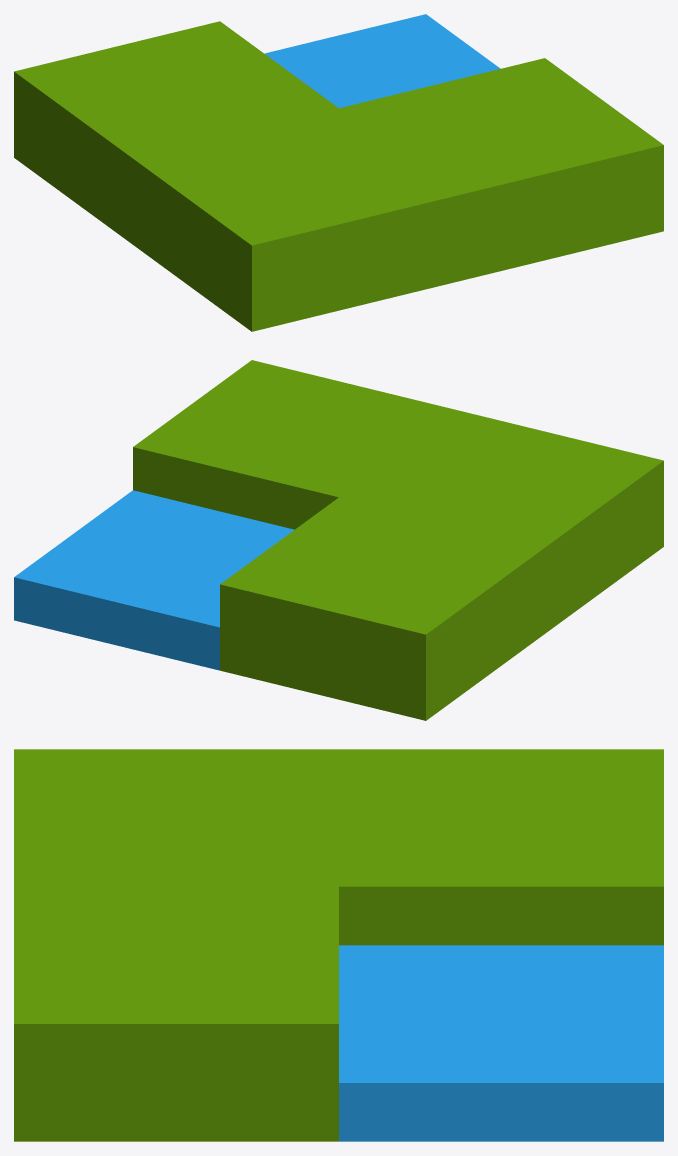
File: TileWater_16.fbx
3 views of the same model, one above another, from view 1: azimuth 30°, elevation 25°; view 2: azimuth 150°, elevation 25°; view 3: azimuth 270°, elevation 25° (orthographic). The views are drawn at different scales.
Visible parts, largest first — view 1: TileWater_16; view 2: TileWater_16; view 3: TileWater_16.
Boxes of the visible parts, x1=… form: TileWater_16: x1=14, y1=14, x2=663, y2=331; TileWater_16: x1=14, y1=360, x2=663, y2=720; TileWater_16: x1=14, y1=749, x2=663, y2=1141.
Bounding box in the file's own units: 500 × 100 × 500.
